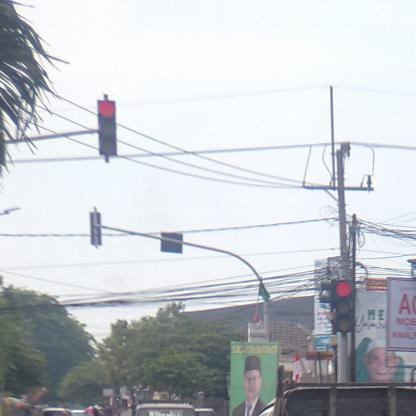red: (96, 100, 118, 157), (333, 280, 354, 335)
